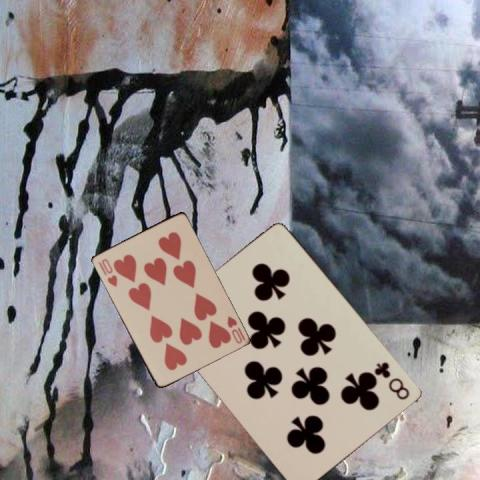10h: (94, 255, 118, 289), (224, 314, 247, 346)
8c: (372, 359, 411, 401)
